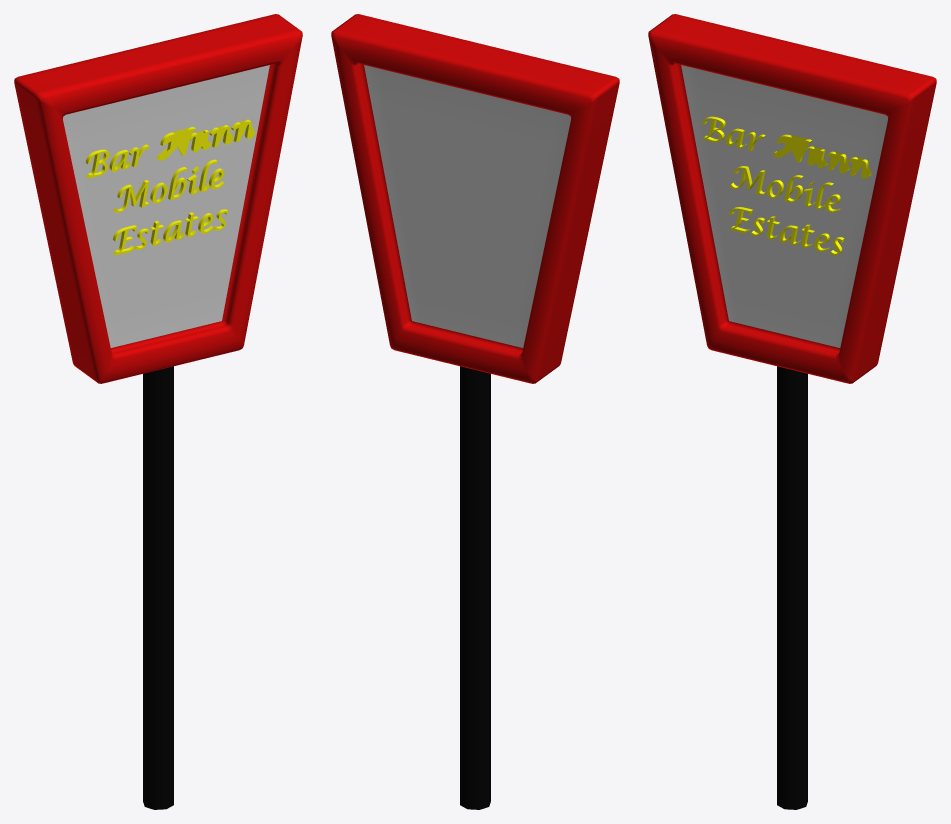
Rendered from TrailerSignCombined.fbx.
3 renders of one model, left to right at view 1: azimuth 30°, elevation 25°; view 2: azimuth 150°, elevation 25°; view 3: azimuth 330°, elevation 25°, orthographic.
Parts seen in each view (by area): view 1: Trailer_Sign; view 2: Trailer_Sign; view 3: Trailer_Sign.
Boxes of the visible parts, x1,y1,x2,y2 form: Trailer_Sign: [14, 14, 302, 809]; Trailer_Sign: [331, 14, 619, 809]; Trailer_Sign: [648, 14, 936, 809].
Size of the model in its own units: 1.82 by 4.93 by 0.342.
